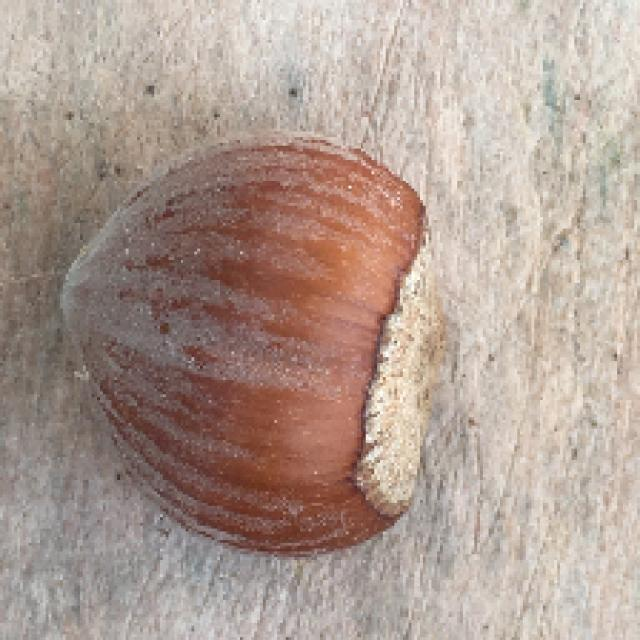qualityHazelnut: (57, 135, 451, 557)
